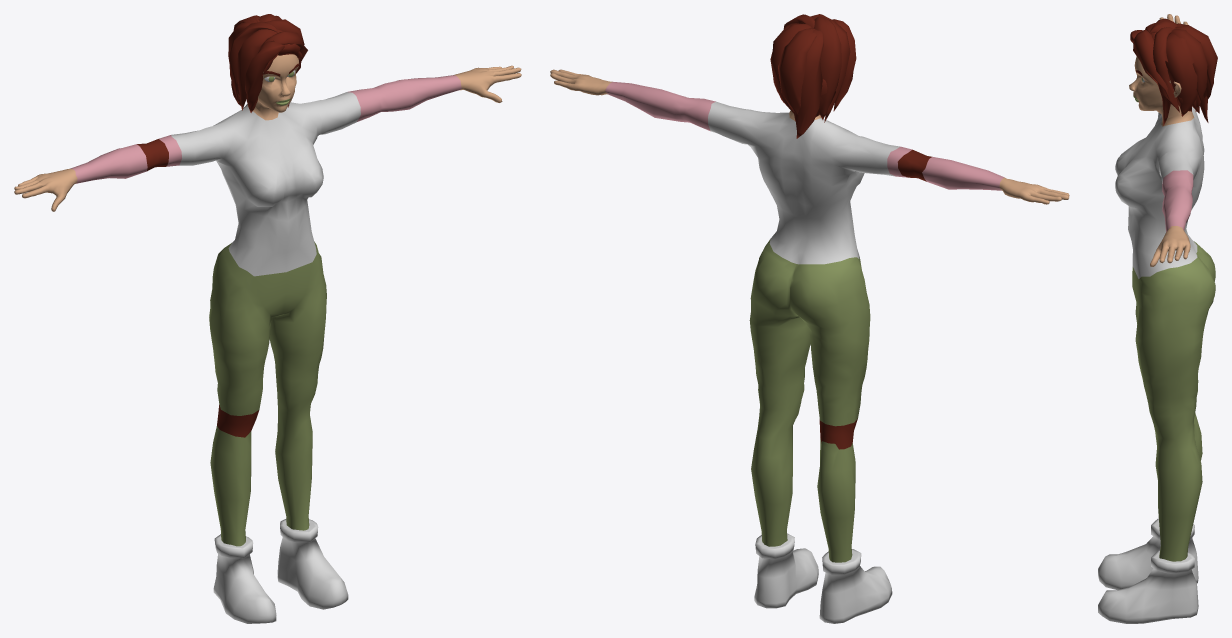
File: MULHER_FREE_5.fbx
3 renders of one model, left to right at view 1: azimuth 30°, elevation 25°; view 2: azimuth 150°, elevation 25°; view 3: azimuth 270°, elevation 25°, orthographic. The views are drawn at different scales.
Visible parts, largest first — view 1: Mesh.001; view 2: Mesh.001; view 3: Mesh.001.
Boxes of the visible parts, x1,y1,x2,y2 form: Mesh.001: [14, 14, 521, 623]; Mesh.001: [550, 14, 1069, 623]; Mesh.001: [1098, 14, 1217, 623].
Bounding box in the file's own units: 168 × 182 × 34.55.
